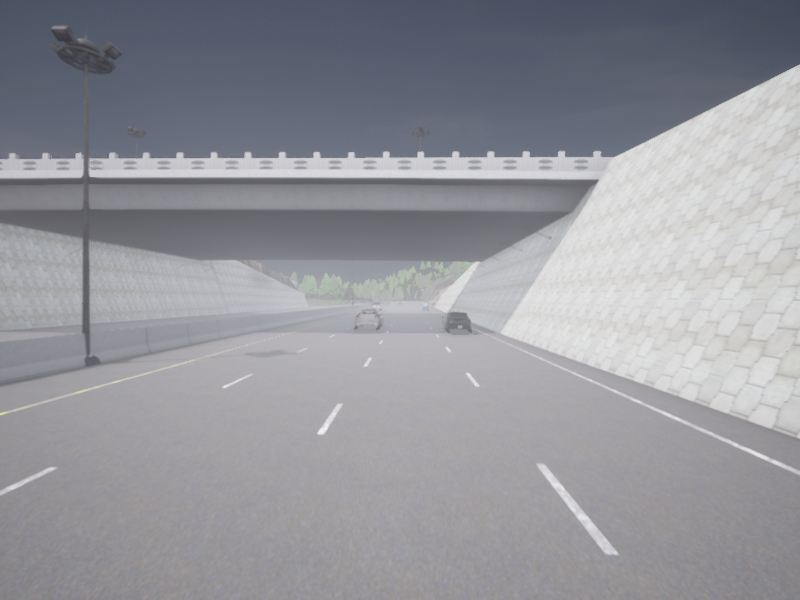vehicle: (441, 311, 471, 332), (355, 309, 382, 328), (372, 302, 382, 310), (422, 305, 427, 310), (398, 302, 402, 305)
